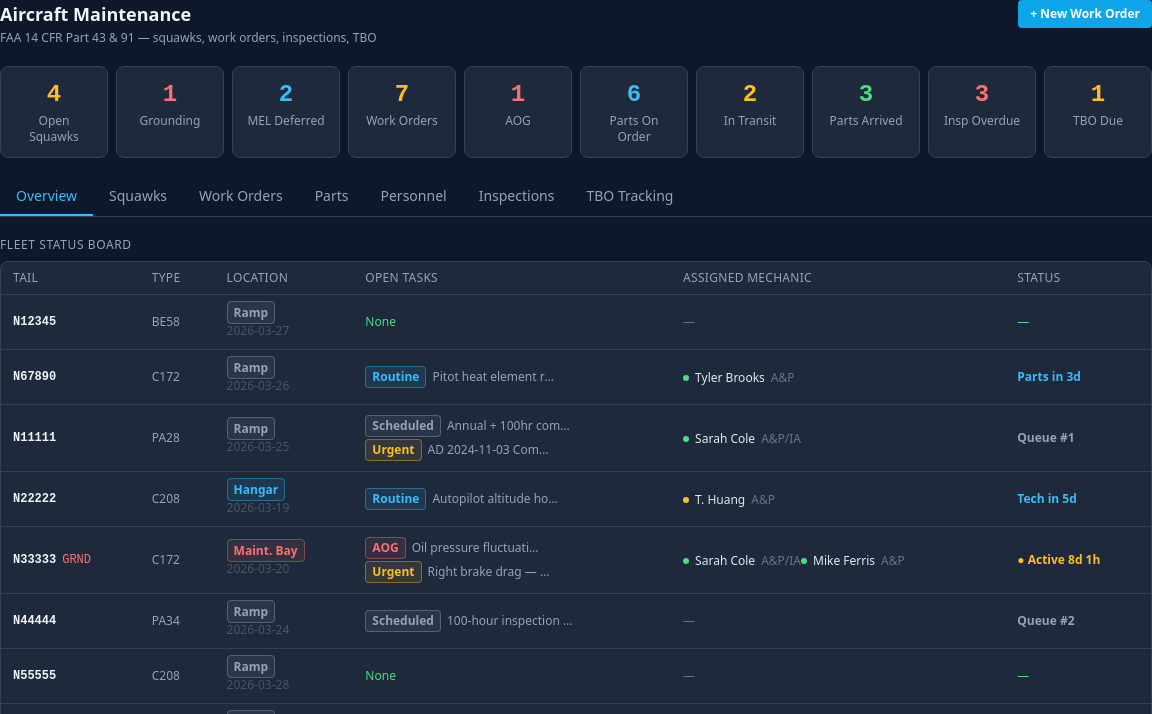
Scenario: <Maintenance /> tab navigation › switches to Squawks tab
Click the tab "Squawks": (138, 197) [93, 178, 183, 216]
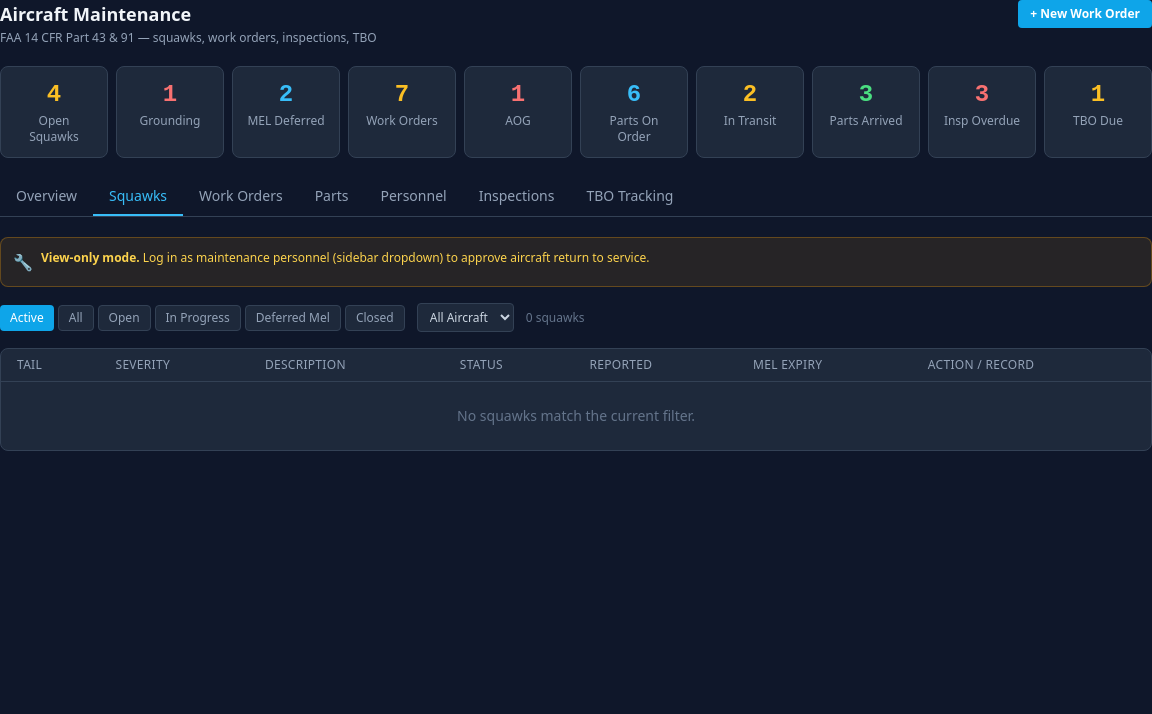
Result: the table "squawks" is shown at [1, 349, 1151, 450]
